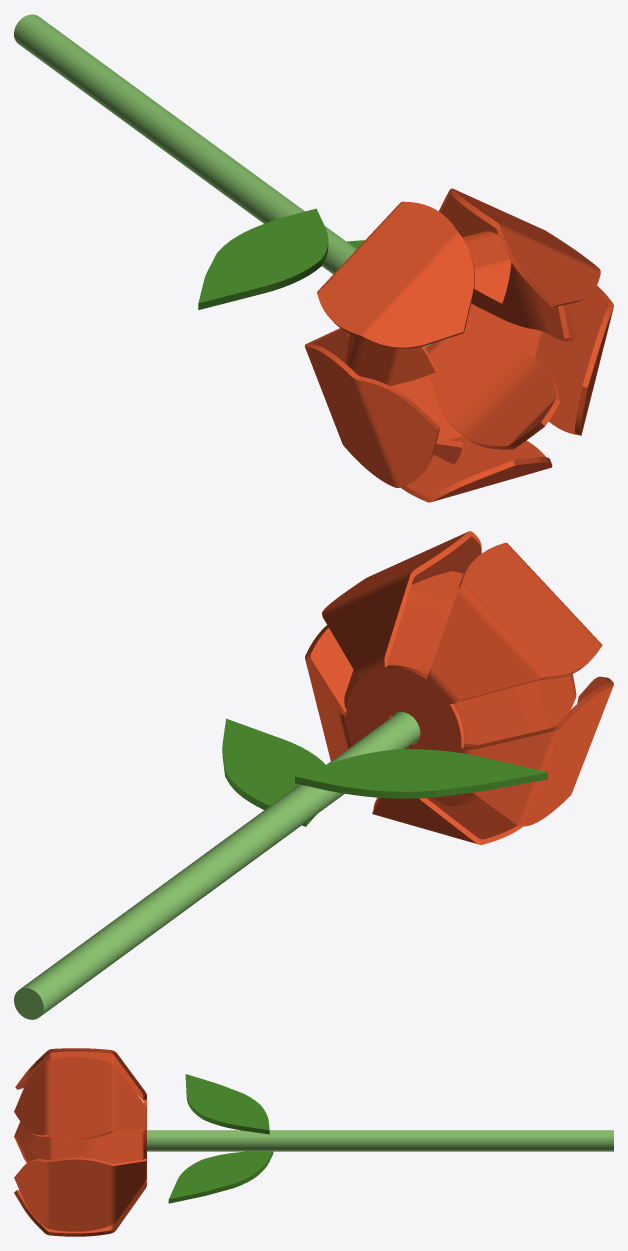
File: Flower.obj
3 views of the same model, one above another, from view 1: azimuth 30°, elevation 25°; view 2: azimuth 150°, elevation 25°; view 3: azimuth 270°, elevation 25° (orthographic). The views are drawn at different scales.
Visible parts, largest first — view 1: Outerleafs1 <1>, InnerFolded <1>, Tanko <1>, Leaf <1>; view 2: Outerleafs1 <1>, Tanko <1>, InnerFolded <1>, Leaf <1>, Leaf <2>; view 3: Outerleafs1 <1>, Tanko <1>, Leaf <2>, Leaf <1>, InnerFolded <1>.
Part boxes in pixels (<box>): Outerleafs1 <1>: <box>304,188,613,502</box>; InnerFolded <1>: <box>345,231,577,464</box>; Tanko <1>: <box>14,14,431,347</box>; Leaf <1>: <box>198,208,328,309</box>; Outerleafs1 <1>: <box>305,531,613,844</box>; Tanko <1>: <box>14,711,420,1019</box>; InnerFolded <1>: <box>344,571,576,806</box>; Leaf <1>: <box>295,749,547,798</box>; Leaf <2>: <box>222,718,325,826</box>; Outerleafs1 <1>: <box>14,1048,146,1236</box>; Tanko <1>: <box>147,1130,613,1151</box>; Leaf <2>: <box>168,1151,273,1203</box>; Leaf <1>: <box>185,1074,269,1134</box>; InnerFolded <1>: <box>25,1098,143,1163</box>.
Bounding box in the file's own units: 0.0508 × 0.0384 × 0.1266.
